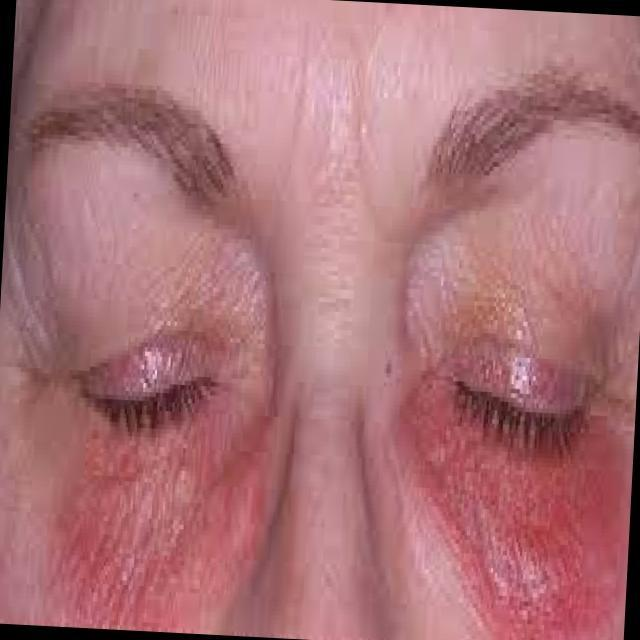Eczema: (74, 246, 282, 598), (419, 296, 621, 632)
